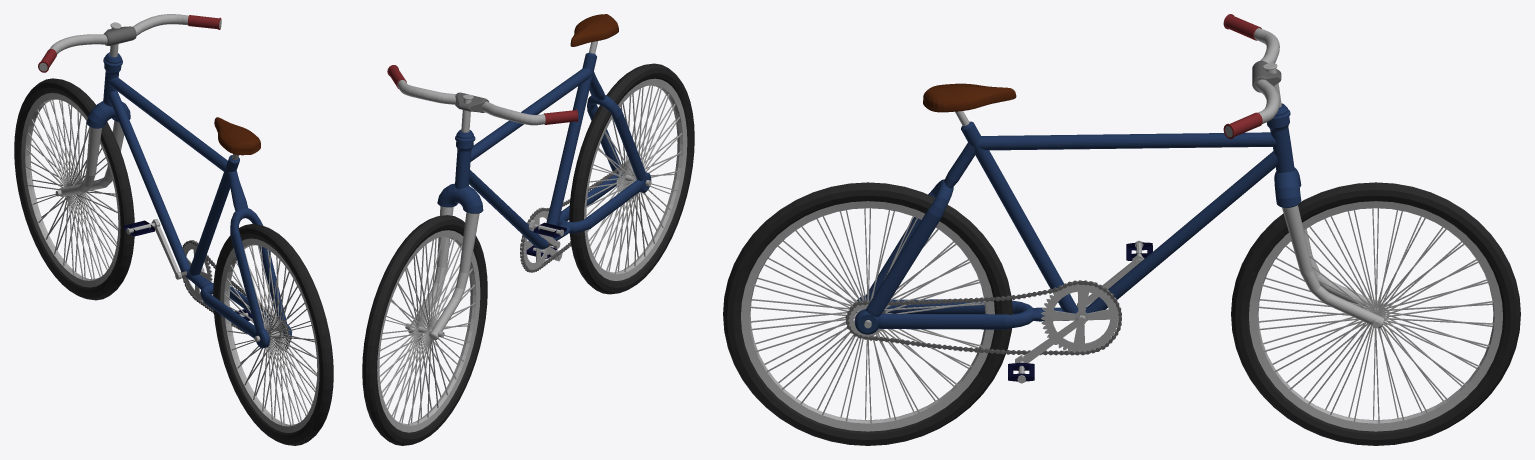
Rendered from old_bicycle.glb.
3 views of the same model, side by side, from view 1: azimuth 30°, elevation 25°; view 2: azimuth 150°, elevation 25°; view 3: azimuth 270°, elevation 25° (orthographic). The views are drawn at different scales.
Bounding box in the file's own units: 0.6196 × 0.9623 × 1.83.
